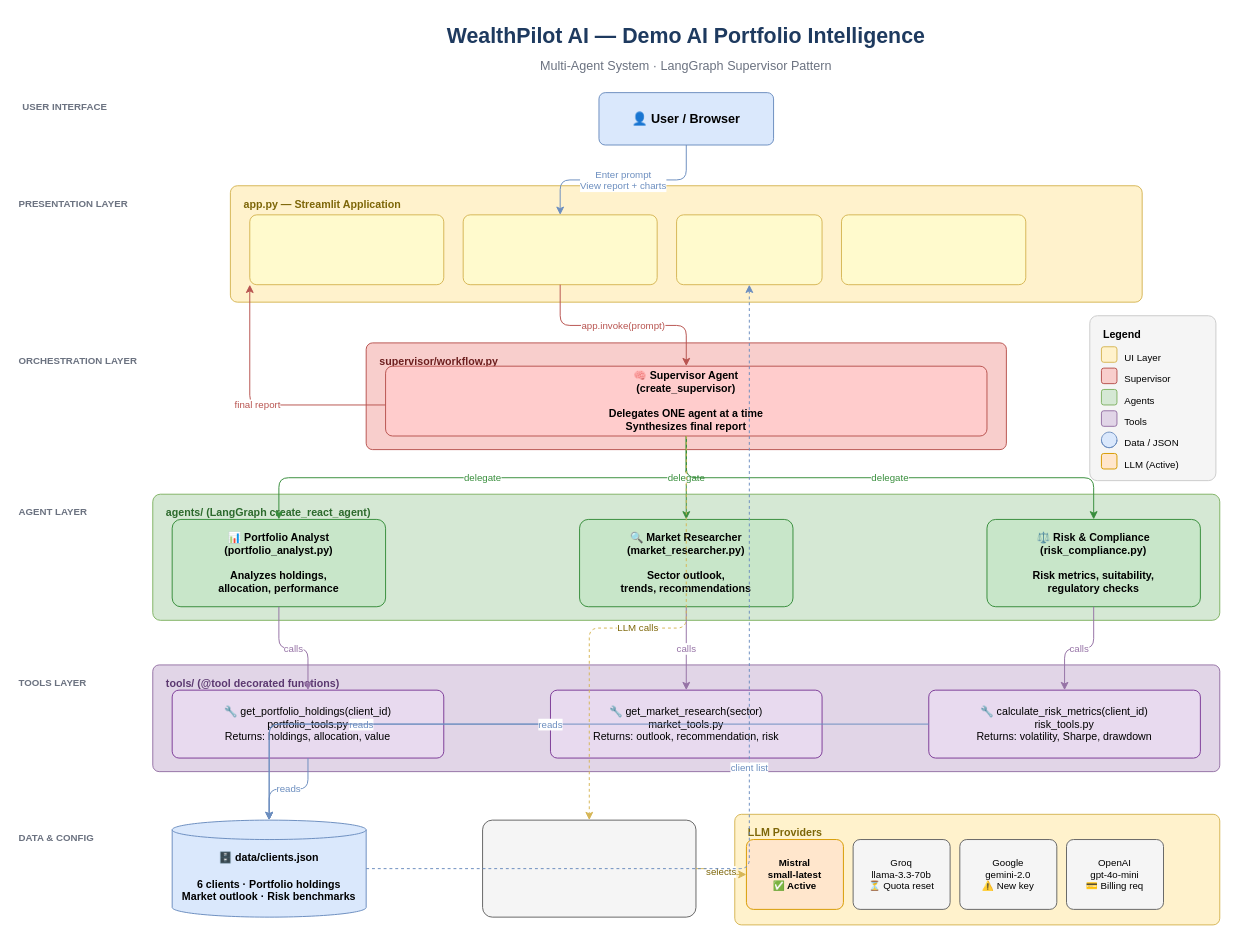
Image size: 1237x942. Some labels were removed from this diagram. The shapes that lost their labels are listed below. From the top down, each one's box as (x1, y1, x2, y2) in pixels, then its label:
(249, 214, 444, 285): 📊 Client Dashboard Tab (Charts from agent data)
(462, 214, 657, 285): 🤖 AI Advisor Tab (Prompt input + Run button)
(676, 214, 822, 285): Sidebar (Client selector)
(841, 214, 1026, 285): 📈 Plotly Charts (Donut · Bar · Gauge)
(482, 819, 696, 917): ⚙️ config/settings.py PROVIDER switch mistral · groq · google · openai
